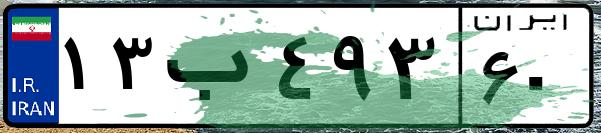0: (525, 38, 570, 115)
1: (57, 26, 110, 100)
3: (385, 28, 445, 110), (110, 28, 158, 98)
4: (270, 28, 330, 110)
6: (475, 38, 525, 113)
9: (330, 28, 385, 110)
ب: (158, 20, 270, 120)
